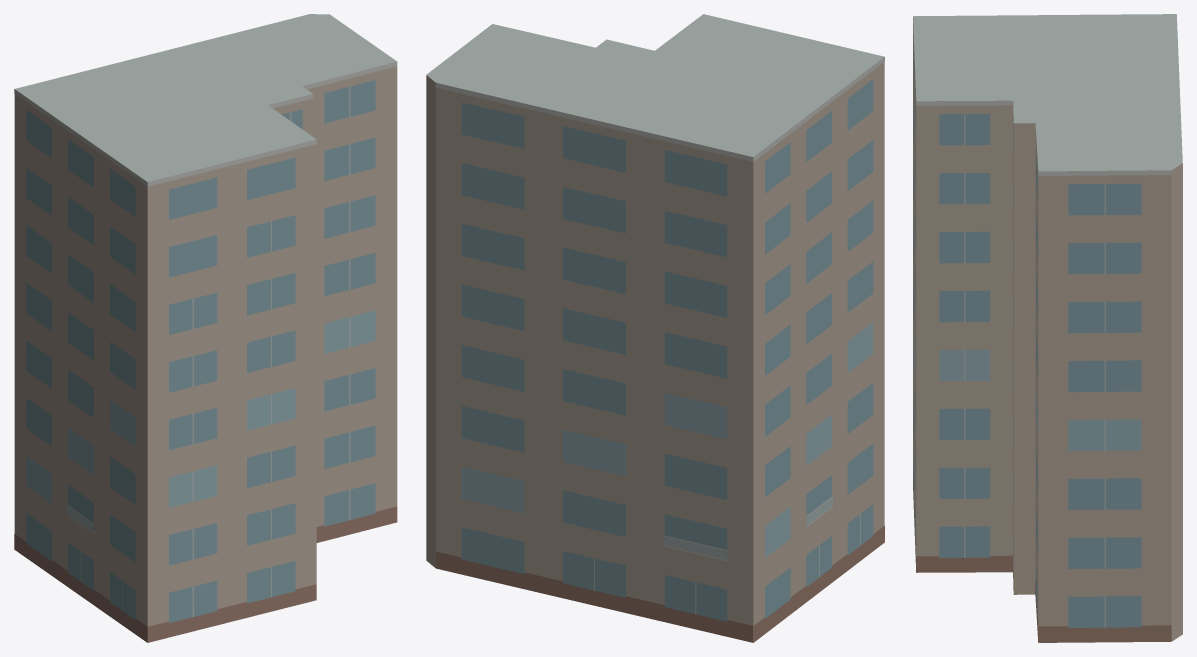
The model's file is survey-upis-32718028.glb.
The picture shows the model from 3 angles, left to right: view 1: azimuth 30°, elevation 25°; view 2: azimuth 150°, elevation 25°; view 3: azimuth 270°, elevation 25°; orthographic projection. The views are drawn at different scales.
Parts seen in each view (by area): view 1: survey-upis-32718028.tmp; view 2: survey-upis-32718028.tmp; view 3: survey-upis-32718028.tmp.
Part boxes in pixels (bbox=[...]): survey-upis-32718028.tmp: bbox=[14, 14, 397, 642]; survey-upis-32718028.tmp: bbox=[426, 14, 884, 642]; survey-upis-32718028.tmp: bbox=[913, 14, 1182, 642].
Bounding box in the file's own units: 17.48 × 24.4 × 12.66.
